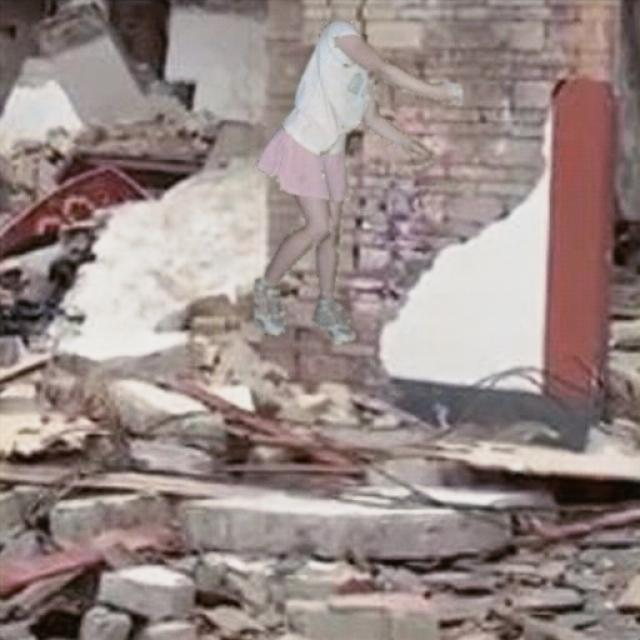Person in Rubble: (254, 21, 462, 342)
